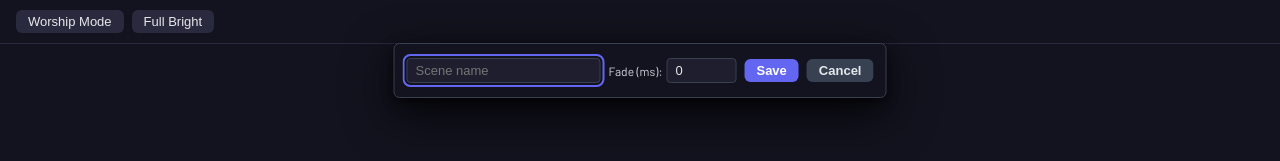
ScenesStrip › shows an error and disables Save when the name is already taken
Type "Worship Mode" into the field with placeholder "Scene name" at [504, 70], box x1=406 y1=58 x2=600 y2=83
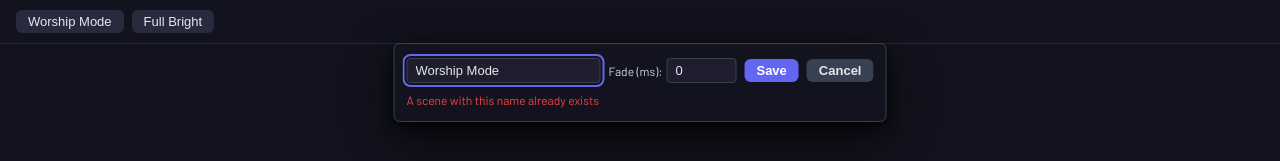
Check: the button "Save" is disabled, box x1=744 y1=59 x2=799 y2=82
Check: the text "A scene with this name already exists" is shown, box x1=406 y1=93 x2=599 y2=107
